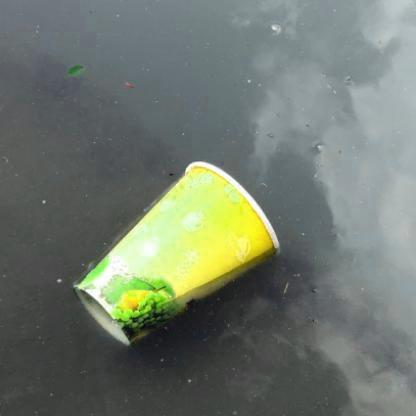Plastic: (70, 158, 283, 349)
